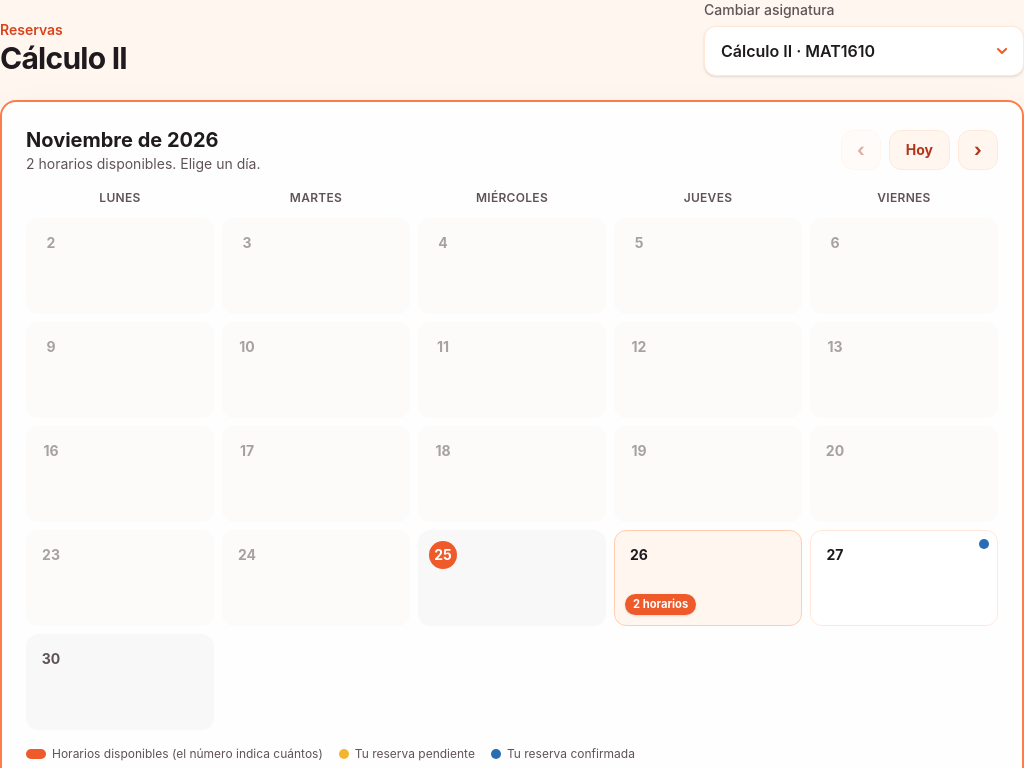
Test: Reservas › cancela una reserva propia con confirmación
Click the button named "27, sin horarios, 1 reserva confirmada" at (904, 578), box top-left (810, 530), bottom-right (998, 626)
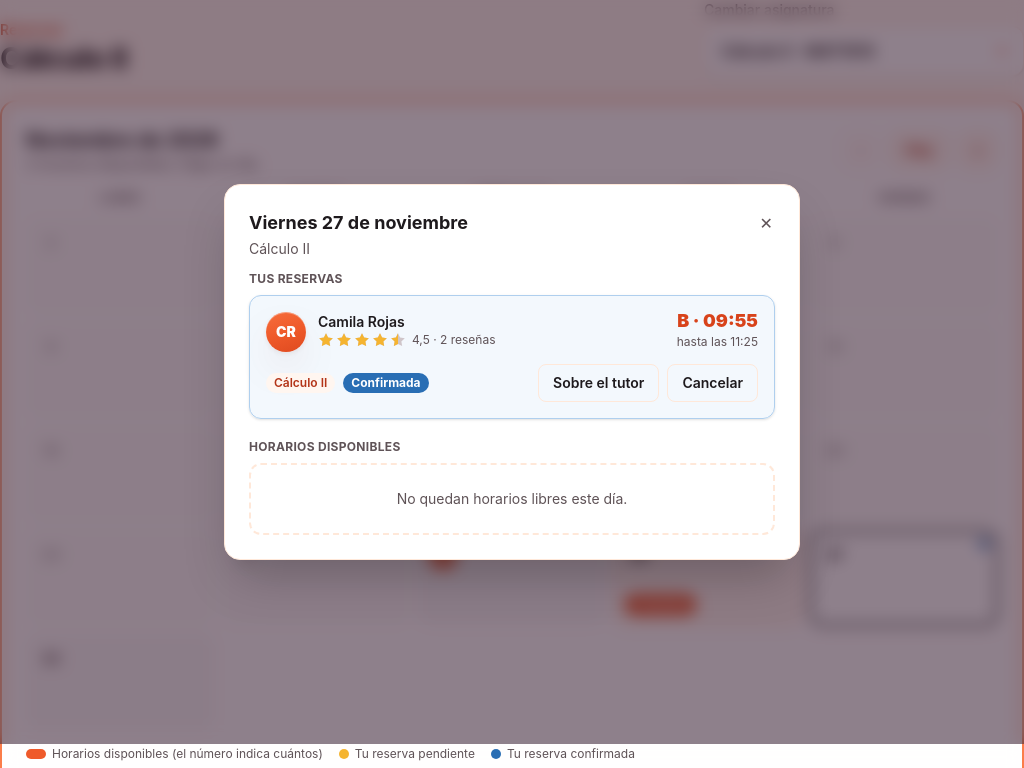
Expected: the heading "Tus reservas" is shown, top-left (249, 271), bottom-right (343, 286)
Expected: the text "No quedan horarios libres este día." is shown, top-left (249, 463), bottom-right (775, 535)
Click the button "Cancelar" at (713, 383), box top-left (667, 364), bottom-right (758, 402)
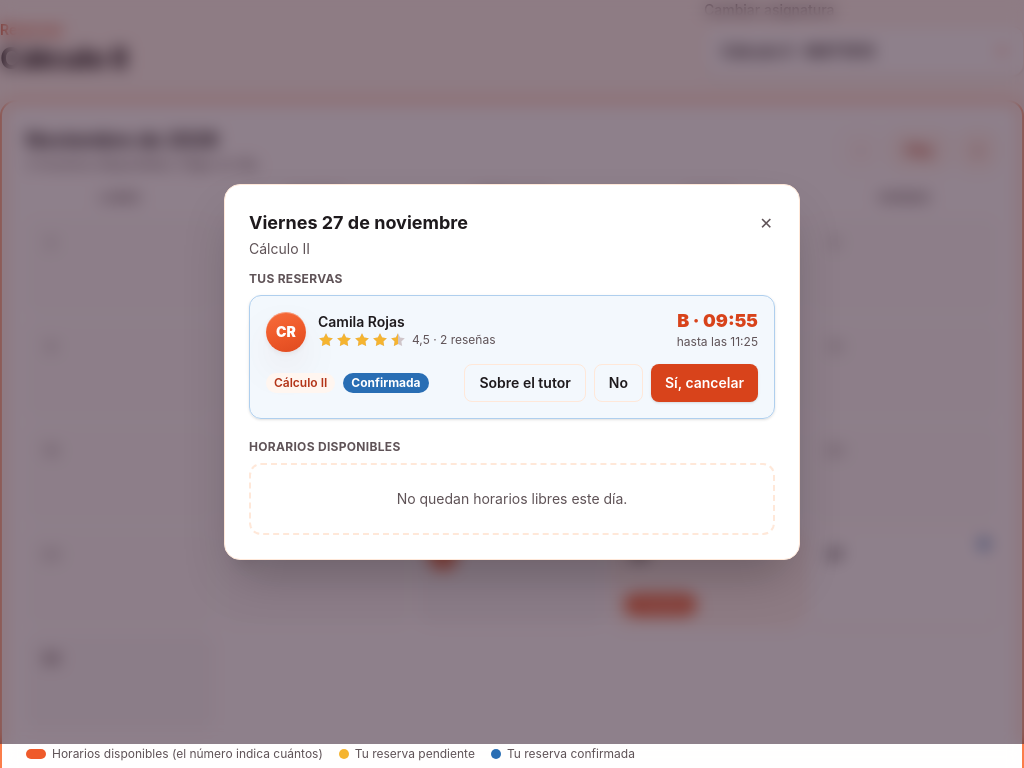
Click the button "Sí, cancelar" at (704, 383), box top-left (651, 364), bottom-right (758, 402)
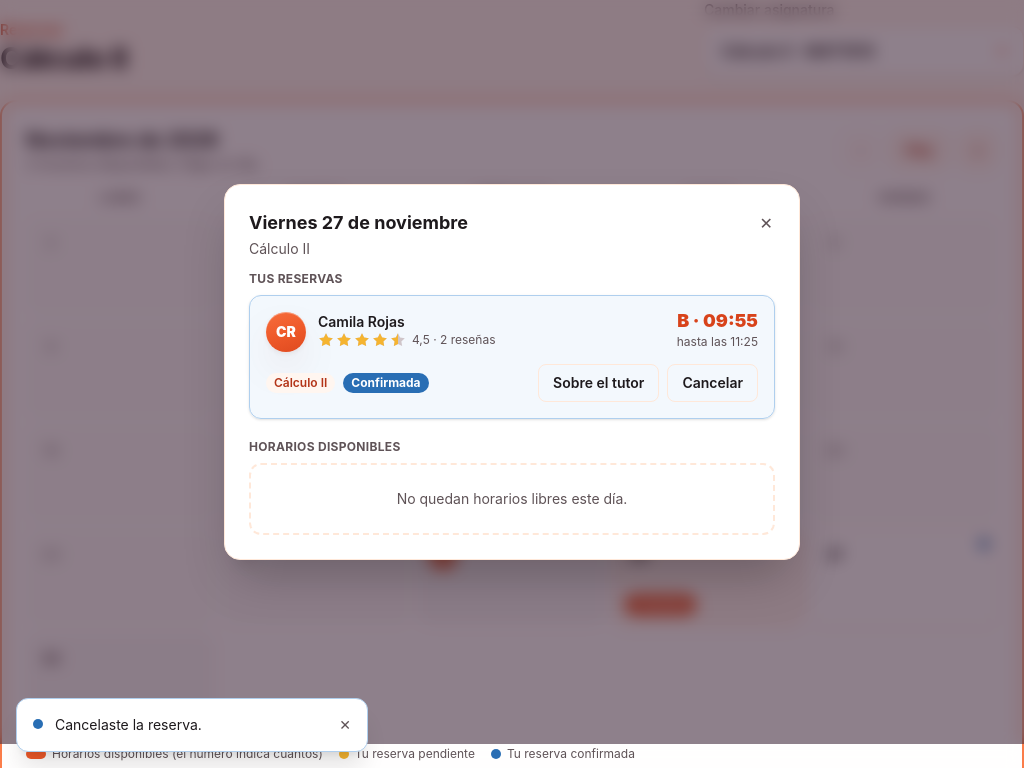
Expected: the text "Cancelaste la reserva." is shown, top-left (55, 716), bottom-right (202, 733)
